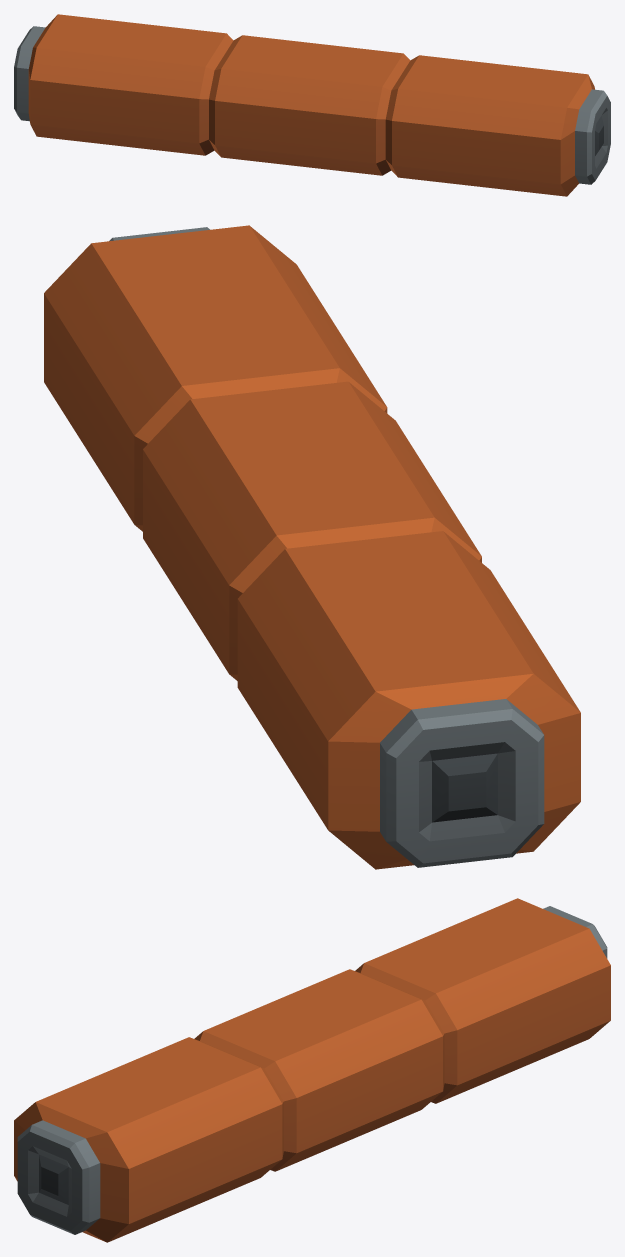
File: space-tunnel-diagonal-long-b.glb
The picture shows the model from 3 angles, top to bottom: view 1: azimuth 30°, elevation 25°; view 2: azimuth 150°, elevation 25°; view 3: azimuth 270°, elevation 25°; orthographic projection. The views are drawn at different scales.
Visible parts, largest first — view 1: tunnel_diagonal_long_B; view 2: tunnel_diagonal_long_B; view 3: tunnel_diagonal_long_B.
Part boxes in pixels (box(x1,y1,x2,y2)): tunnel_diagonal_long_B: box(14, 14, 610, 196); tunnel_diagonal_long_B: box(44, 225, 580, 869); tunnel_diagonal_long_B: box(14, 898, 610, 1242).
Bounding box in the file's own units: 2.94 × 0.6 × 2.94.
